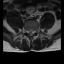CCS_normal: (30, 29, 32, 38)
LFS_normal: (34, 28, 36, 34)
LLS_normal: (32, 29, 34, 36)
RFS_normal: (26, 28, 28, 35)
RLS_normal: (28, 28, 30, 37)
